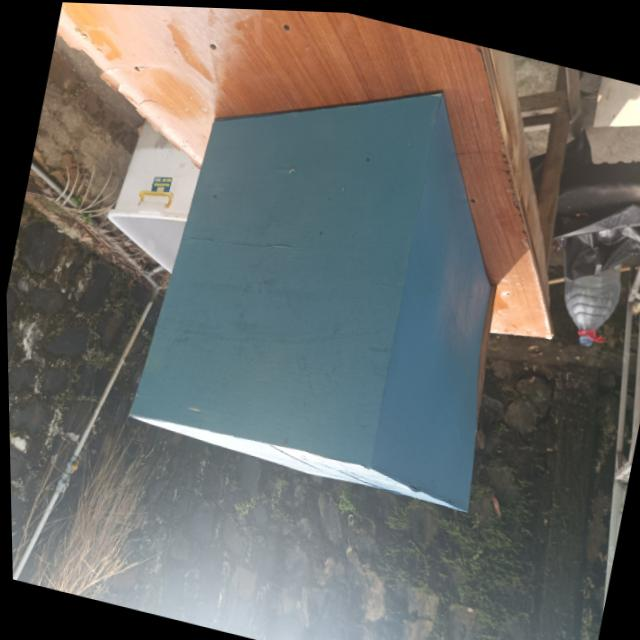blue_box: (88, 3, 575, 555)
